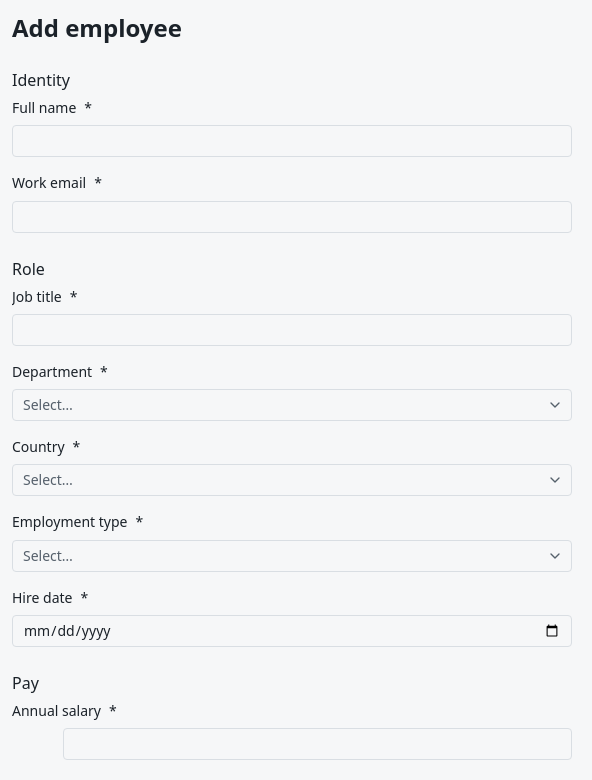
AddEmployeePage › names the earlier inactive employee and says saving creates a new linked record once the email is left
In the field labelled "Work email *": (292, 216) [12, 200, 572, 232], type "Asha.Rao@acme.example"
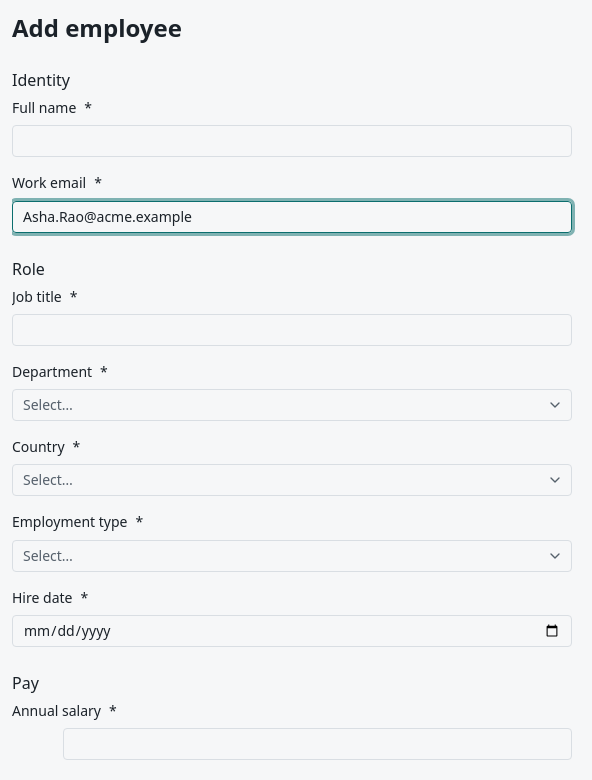
Press Tab
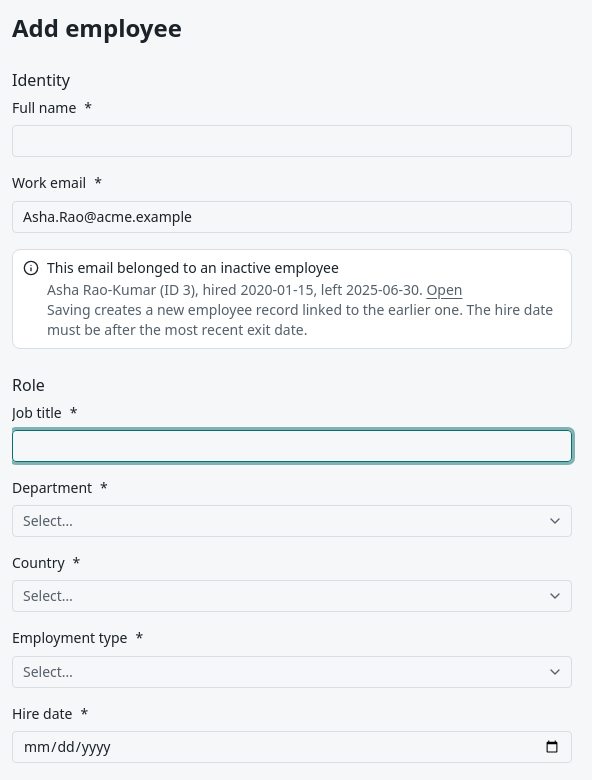
Expected: the message shows "inactive employee", [47, 258, 339, 276]
Expected: the message shows "Asha Rao-Kumar", [47, 280, 156, 298]
Expected: the message shows "ID 3", [12, 248, 572, 348]
